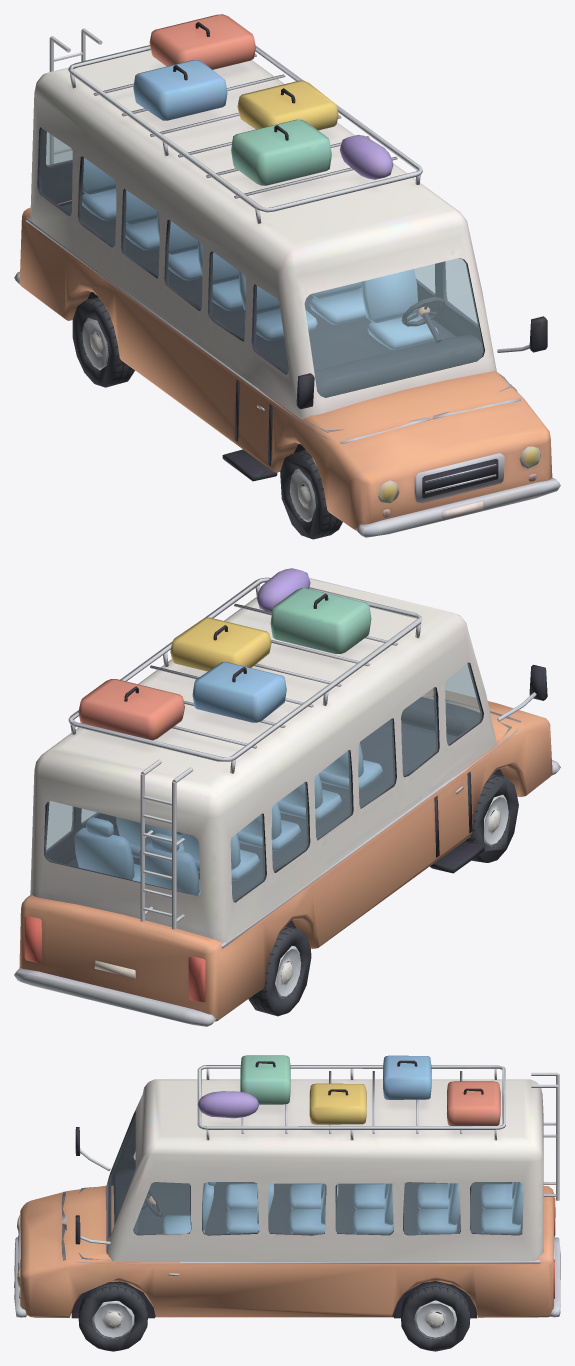
File: minibus.glb
3 renders of one model, top to bottom at view 1: azimuth 30°, elevation 25°; view 2: azimuth 150°, elevation 25°; view 3: azimuth 270°, elevation 25°, orthographic. The views are drawn at different scales.
Parts seen in each view (by area): view 1: minibus_body, minibus_windows, minibus_wheel_fl; view 2: minibus_body, minibus_windows, minibus_wheel_fl; view 3: minibus_body, minibus_windows, minibus_wheel_fl.
Part boxes in pixels (left/top/right/bottom): minibus_body: left=14, top=14, right=560, bottom=537; minibus_windows: left=39, top=128, right=483, bottom=397; minibus_wheel_fl: left=72, top=297, right=342, bottom=539; minibus_body: left=14, top=568, right=560, bottom=1026; minibus_windows: left=45, top=663, right=481, bottom=901; minibus_wheel_fl: left=248, top=774, right=518, bottom=1016; minibus_body: left=14, top=1055, right=560, bottom=1318; minibus_windows: left=110, top=1114, right=523, bottom=1235; minibus_wheel_fl: left=78, top=1283, right=470, bottom=1351.
Size of the model in its own units: 2.51 by 3.07 by 6.18.
6 materials, 2 textured.
